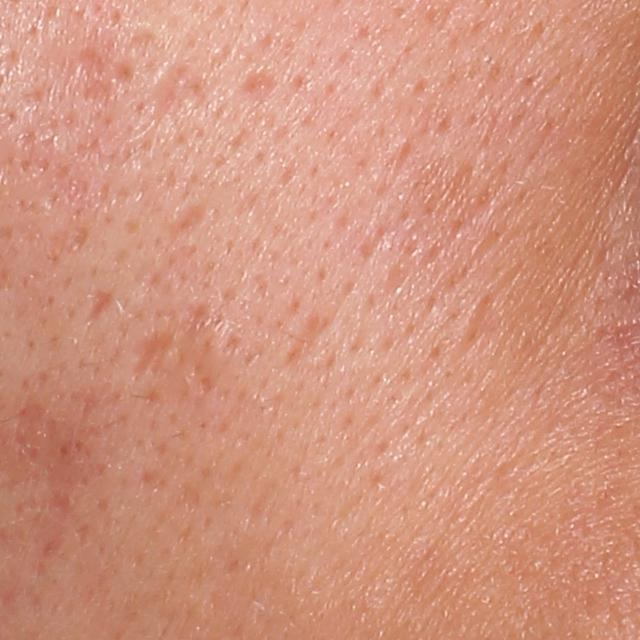atrophic_scar: (453, 293, 508, 359), (148, 64, 203, 119), (281, 308, 330, 368), (130, 330, 175, 378), (83, 285, 120, 329), (172, 199, 210, 237)
